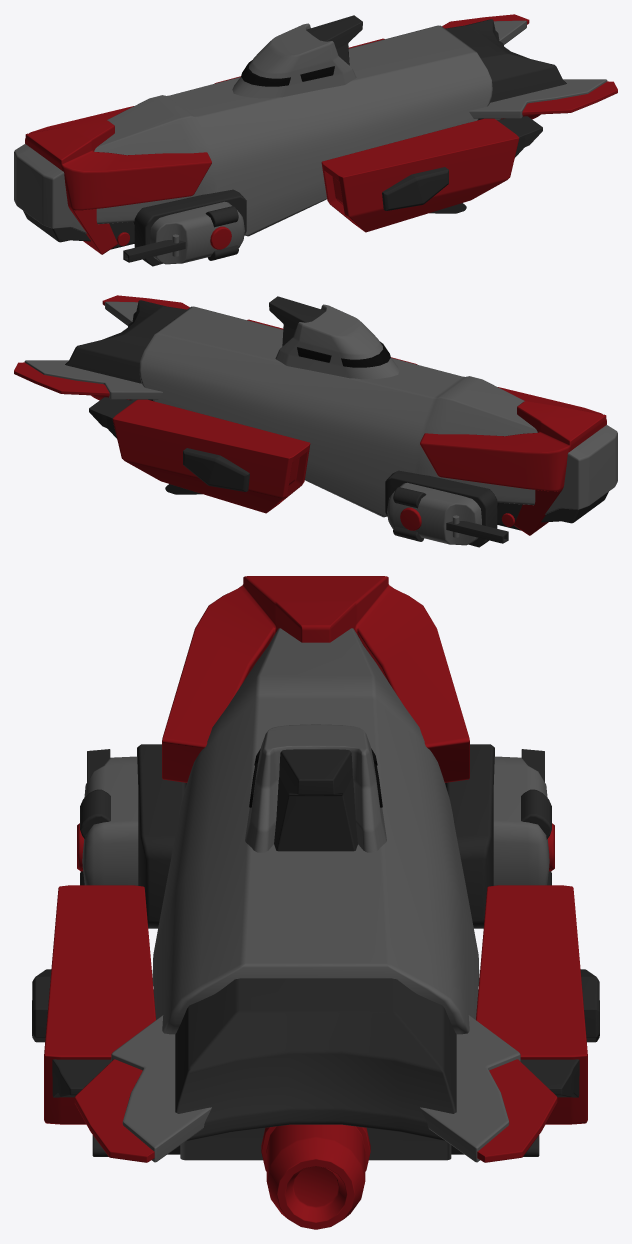
File: frigate_01.glb
The picture shows the model from 3 angles, top to bottom: view 1: azimuth 30°, elevation 25°; view 2: azimuth 150°, elevation 25°; view 3: azimuth 270°, elevation 25°; orthographic projection. The views are drawn at different scales.
Parts seen in each view (by area): view 1: Frigate_1; view 2: Frigate_1; view 3: Frigate_1.
Part boxes in pixels (x1,y1,x2,y2): Frigate_1: [14, 14, 617, 266]; Frigate_1: [14, 295, 617, 547]; Frigate_1: [32, 576, 599, 1229].
Bounding box in the file's own units: 40.09 × 11.89 × 18.18.
Materials: 1 (1 with a texture image).
